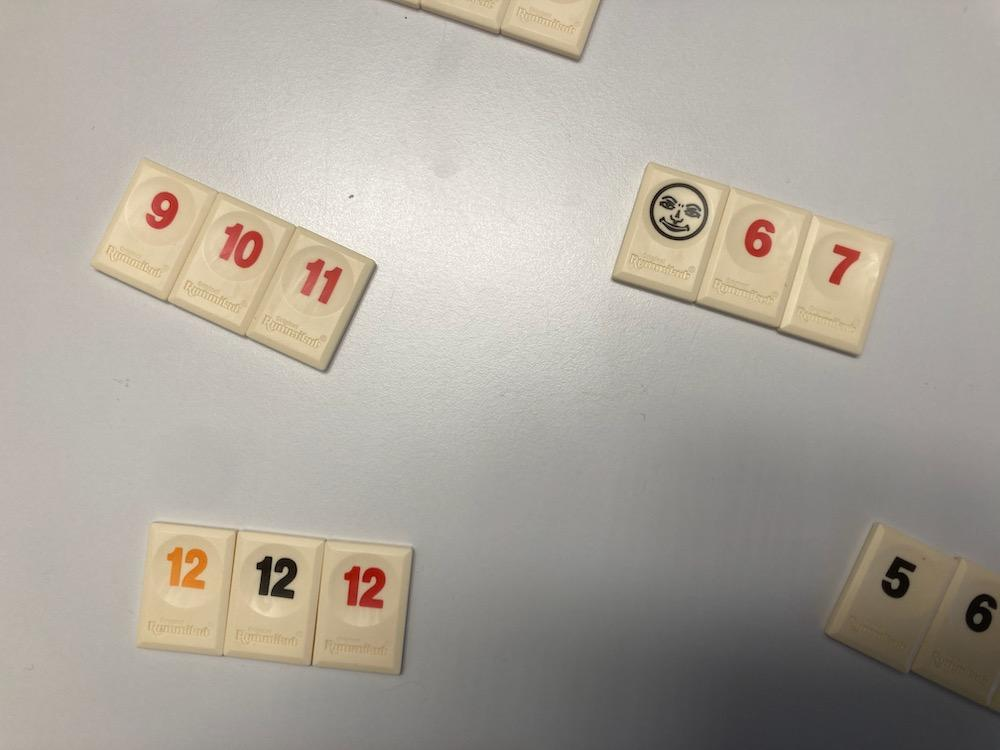black_12: (225, 531, 324, 664)
black_5: (826, 523, 957, 672)
black_6: (913, 559, 1000, 705)
joker: (613, 162, 729, 301)
orange_12: (139, 523, 236, 654)
red_10: (170, 193, 295, 334)
red_11: (246, 227, 375, 369)
red_12: (313, 541, 412, 673)
red_6: (698, 189, 811, 326)
red_7: (779, 217, 893, 355)
red_9: (92, 158, 217, 299)
